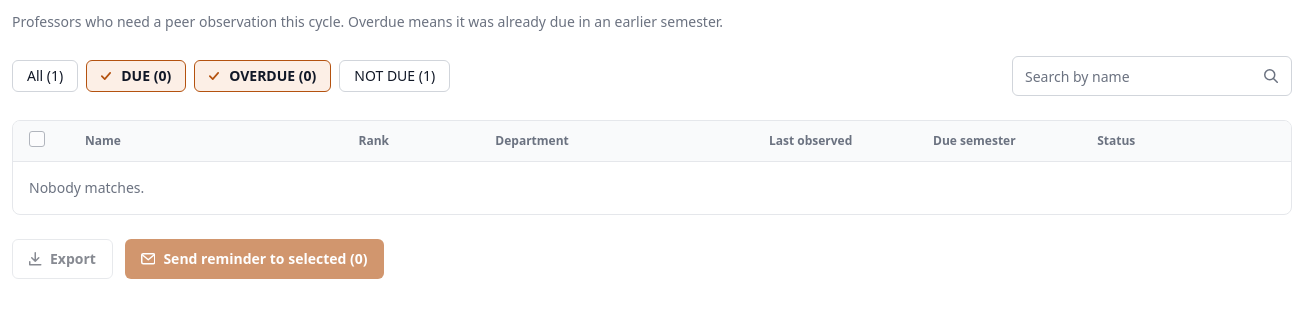
Test case: Faculty page: full list › shows a due semester that has no term row yet
This screenshot has width=1304, height=312.
Click the button "NOT DUE (1)" at x=395, y=76, box [339,60,450,92]
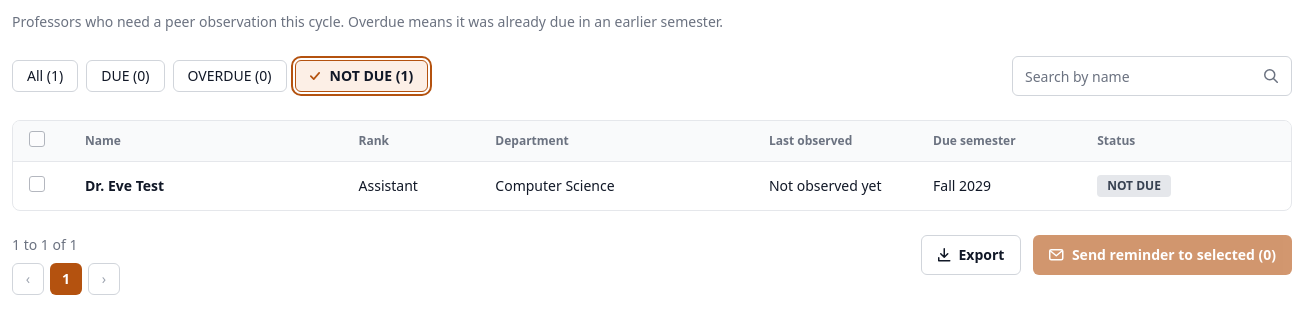
Now the row that starts with "Dr. Eve Test" reads "Dr. Eve Test Assistant Computer Science Not observed yet Fall 2029 NOT DUE", box [29,175,1171,197]
